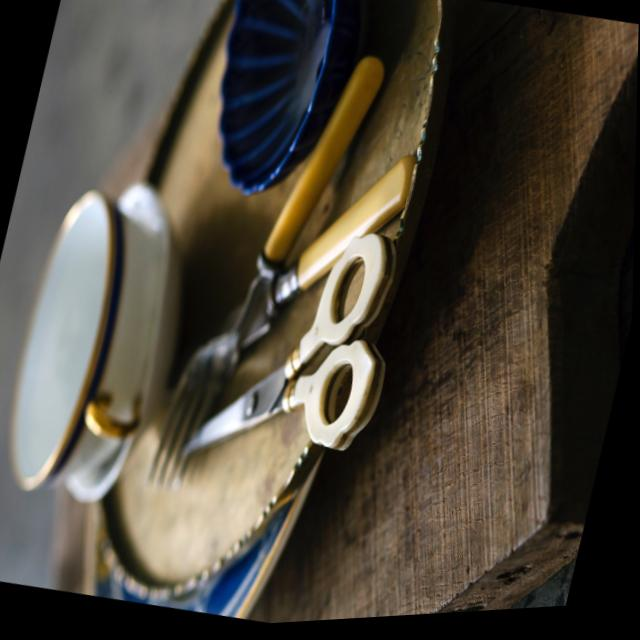scissor: (178, 204, 415, 505)
